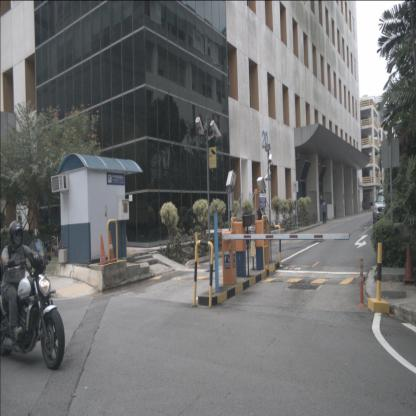human-pedestrian-adult: (256, 202, 264, 246), (321, 199, 327, 224), (362, 199, 364, 213)
movable_object-trafficcone: (403, 243, 415, 283), (106, 231, 117, 261), (98, 235, 108, 264)
vehicle-bicycle: (51, 228, 68, 256)
vehicle-car: (373, 188, 396, 228)
vehicle-motorcycle: (0, 220, 66, 372)
